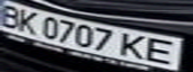0: (36, 14, 60, 40), (72, 21, 93, 48)
7: (93, 25, 118, 53), (54, 18, 75, 45)
B: (0, 2, 27, 29)
E: (142, 36, 187, 65)
K: (115, 32, 151, 61), (12, 8, 42, 34)
